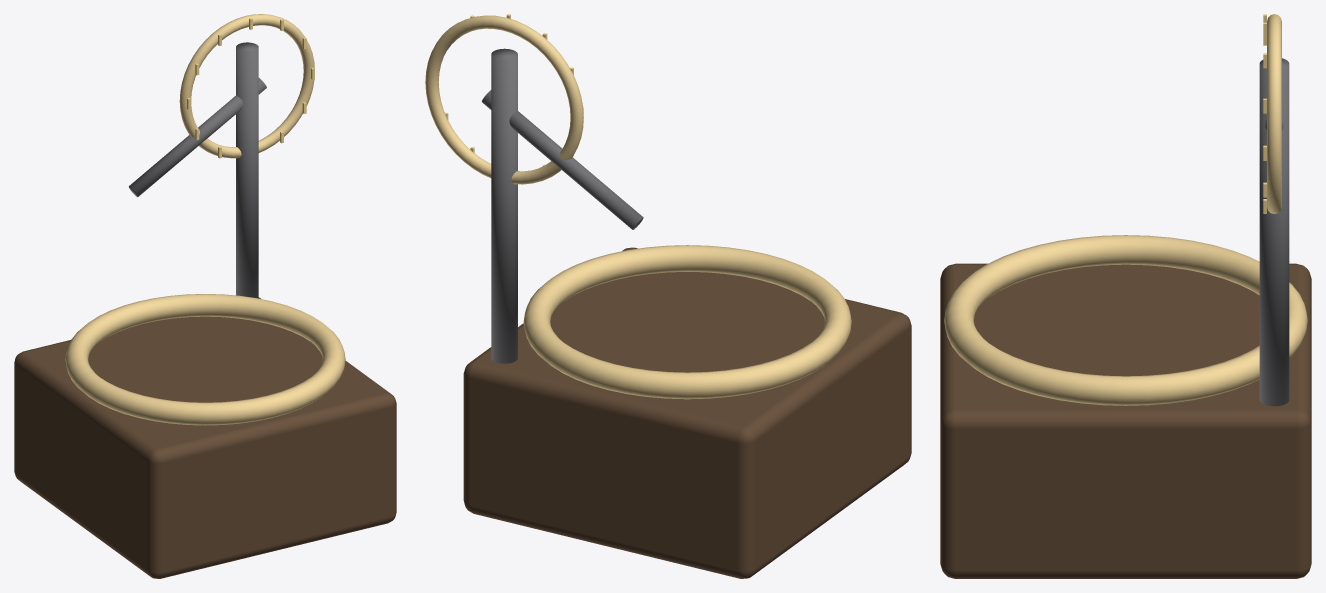
File: faceting_machine.gltf
3 views of the same model, side by side, from view 1: azimuth 30°, elevation 25°; view 2: azimuth 150°, elevation 25°; view 3: azimuth 270°, elevation 25° (orthographic). The views are drawn at different scales.
Visible parts, largest first — view 1: Housing.003, SplashPan.001, Mast, Quadrant, DopArm; view 2: Housing.003, SplashPan.001, Mast, Quadrant, DopArm; view 3: Housing.003, SplashPan.001, Mast, Quadrant.
Boxes of the visible parts, x1=… form: Housing.003: x1=14, y1=297, x2=396, y2=578; SplashPan.001: x1=65, y1=294, x2=345, y2=425; Mast: x1=236, y1=42, x2=258, y2=298; Quadrant: x1=179, y1=14, x2=314, y2=158; DopArm: x1=128, y1=78, x2=266, y2=197; Housing.003: x1=463, y1=247, x2=911, y2=578; SplashPan.001: x1=523, y1=245, x2=851, y2=399; Mast: x1=491, y1=48, x2=517, y2=363; Quadrant: x1=425, y1=15, x2=583, y2=184; DopArm: x1=481, y1=90, x2=643, y2=229; Housing.003: x1=940, y1=263, x2=1311, y2=578; SplashPan.001: x1=944, y1=235, x2=1307, y2=405; Mast: x1=1259, y1=58, x2=1289, y2=406; Quadrant: x1=1267, y1=14, x2=1281, y2=213.
Bounding box in the file's own units: 0.234 × 0.324 × 0.2.
